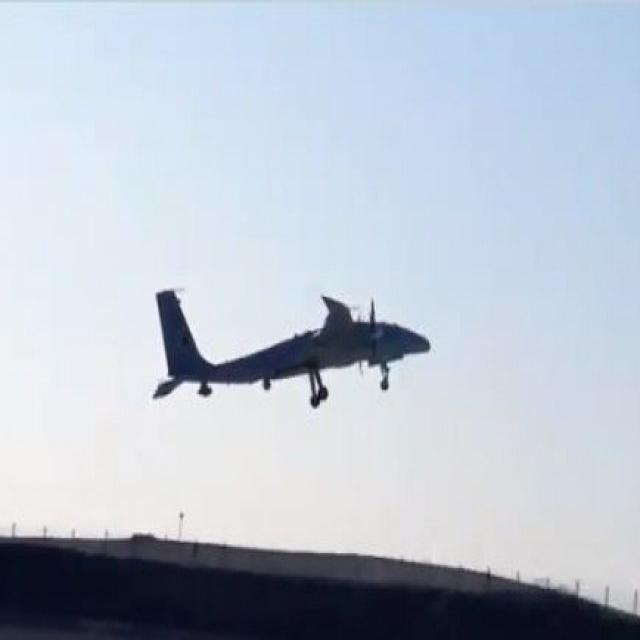iha: (150, 316, 432, 373)
